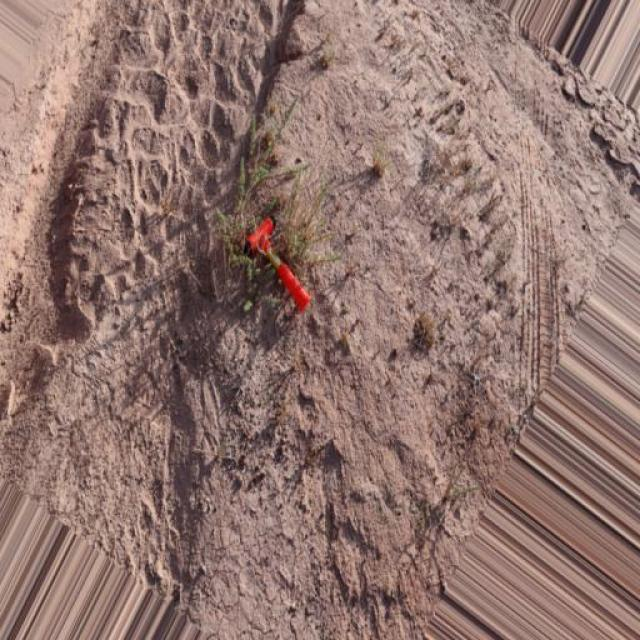mallet: (246, 215, 314, 313)
